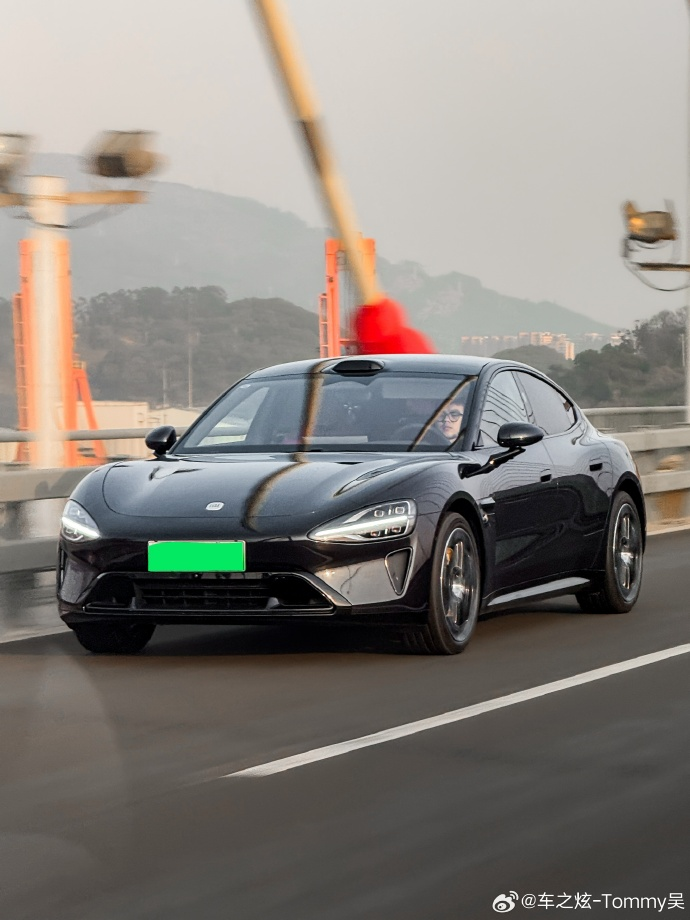su7: (48, 346, 647, 654)
